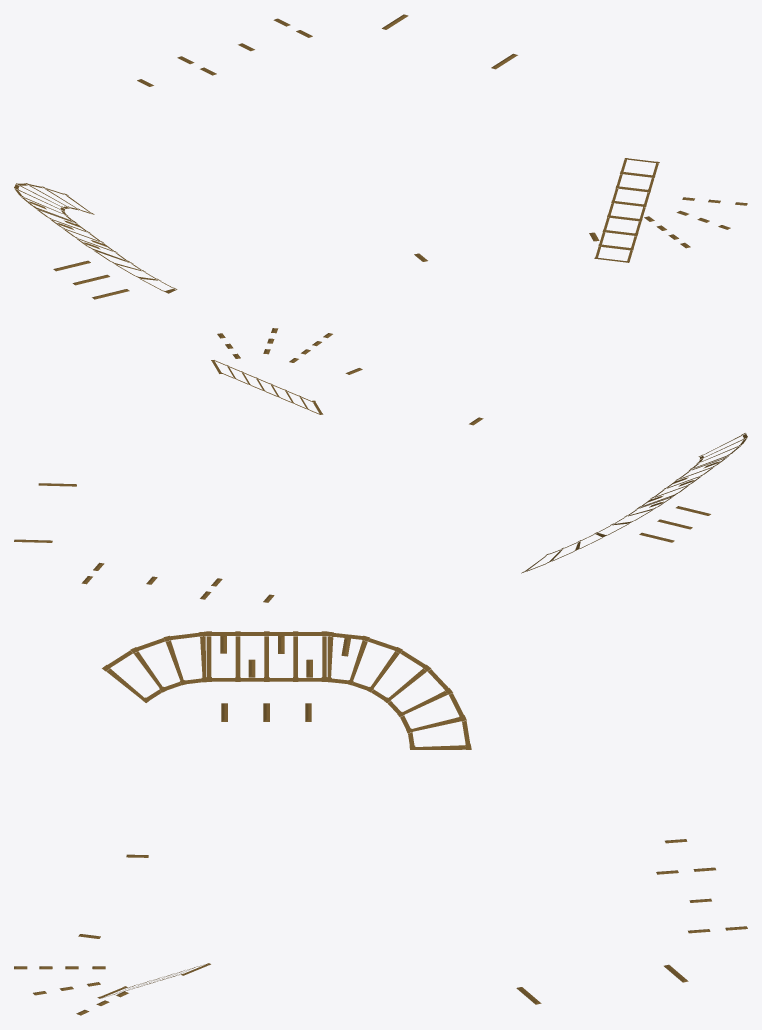
File: Combined_ShadowCollisionPrefab.fbx
3 views of the same model, one above another, from view 1: azimuth 30°, elevation 25°; view 2: azimuth 150°, elevation 25°; view 3: azimuth 270°, elevation 25° (orthographic). The views are drawn at different scales.
Visible parts, largest first — view 1: Combined_ShadowCollisionPrefab; view 2: Combined_ShadowCollisionPrefab; view 3: Combined_ShadowCollisionPrefab.
Part boxes in pixels (x1,y1,x2,y2): Combined_ShadowCollisionPrefab: (14, 14, 747, 299); Combined_ShadowCollisionPrefab: (14, 328, 747, 602); Combined_ShadowCollisionPrefab: (14, 631, 747, 1015).
Bounding box in the file's own units: 341 × 53.13 × 331.
